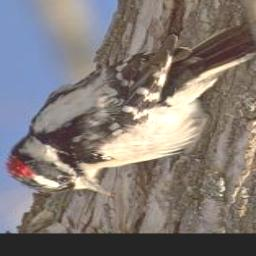Woodpecker: (3, 23, 256, 197)
